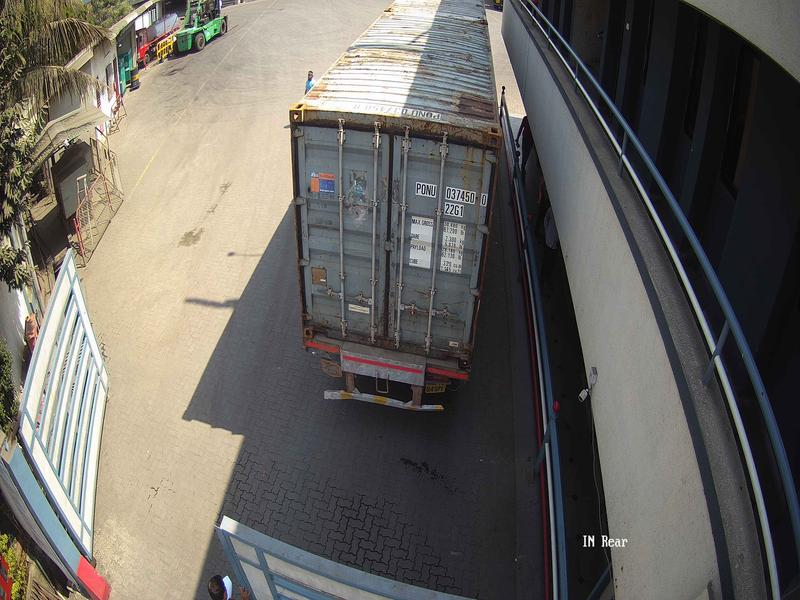container: (278, 97, 518, 377)
